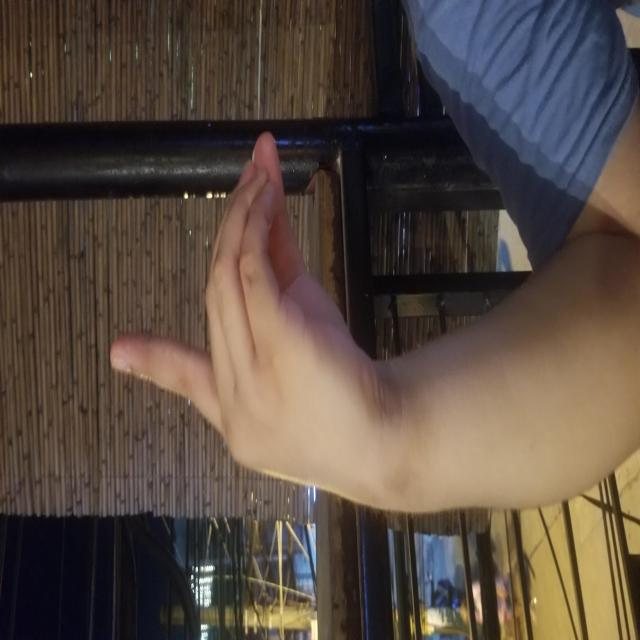D: (166, 108, 511, 374)
